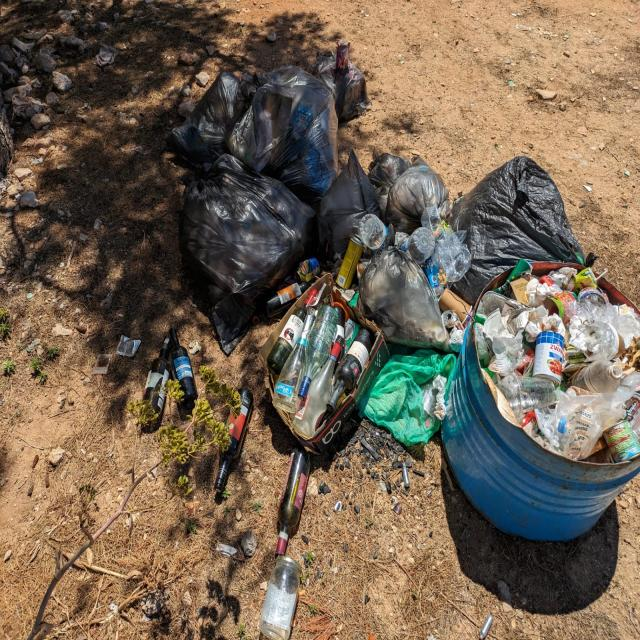Bottle: (292, 334, 345, 434), (213, 388, 256, 497), (264, 289, 318, 373), (274, 308, 316, 413), (325, 326, 373, 414), (275, 449, 312, 557), (298, 305, 339, 401), (260, 556, 303, 639), (139, 338, 171, 429), (168, 329, 197, 409), (263, 280, 315, 319), (573, 358, 622, 393), (397, 228, 437, 267), (329, 304, 347, 377), (356, 213, 390, 248)
Bottle cap: (557, 417, 568, 435), (253, 316, 259, 325)
Can: (336, 229, 364, 293), (535, 330, 564, 391), (602, 418, 640, 464), (491, 258, 533, 299), (542, 290, 578, 323), (294, 257, 321, 281), (440, 309, 465, 332)
Carton: (255, 268, 393, 453)
Cup: (497, 372, 556, 415), (437, 287, 473, 324)
Other litter: (442, 261, 640, 544), (360, 349, 454, 446), (448, 312, 473, 354), (438, 457, 454, 492), (385, 225, 409, 246), (478, 615, 493, 639), (216, 543, 237, 557), (403, 464, 410, 488)
Other plastic: (420, 204, 472, 304), (115, 336, 141, 359), (91, 354, 113, 376), (337, 40, 351, 71), (25, 292, 34, 300)
Plastic bag - wrapper: (179, 153, 321, 358), (448, 155, 589, 306), (229, 63, 339, 194), (171, 65, 267, 165), (358, 246, 451, 349), (315, 149, 383, 260), (366, 151, 452, 235), (310, 50, 374, 125)
